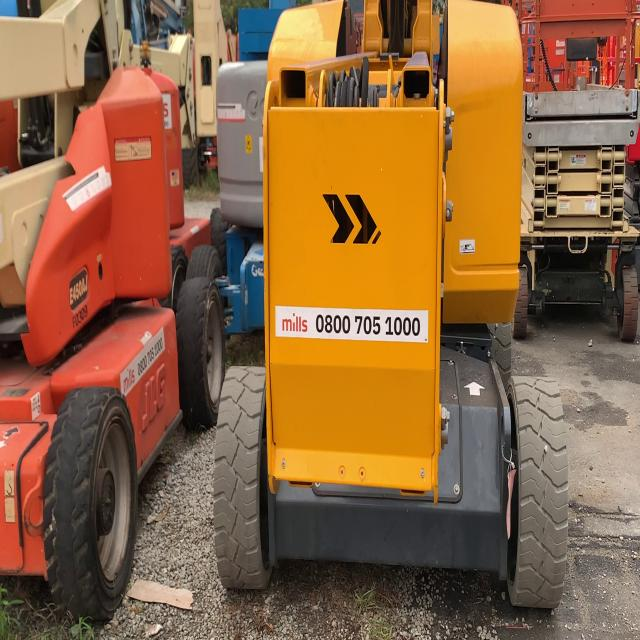Adesivo Longo: (274, 303, 429, 345)
